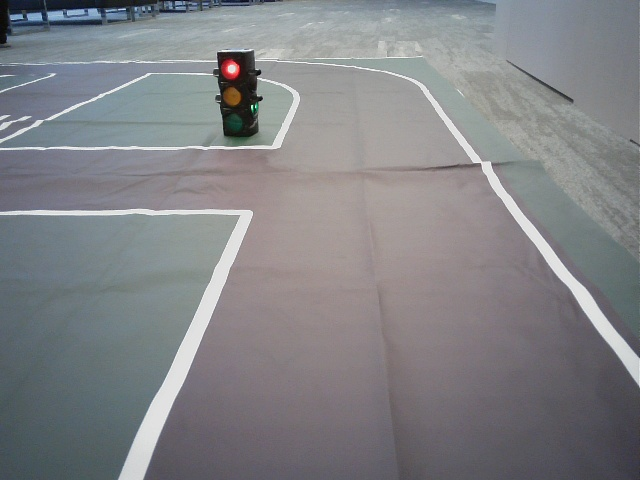red: (217, 55, 248, 133)
